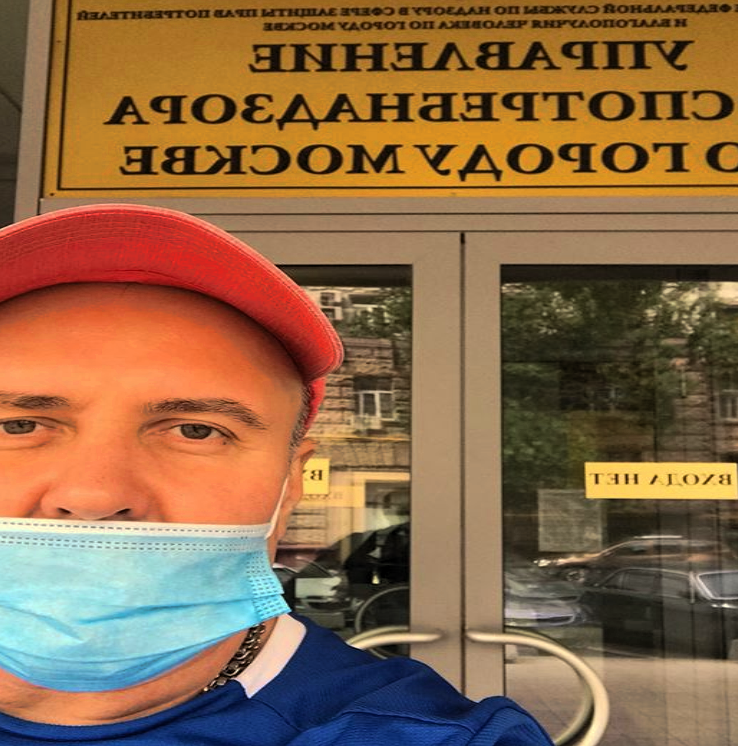mask_weared_incorrect: (1, 240, 314, 683)
